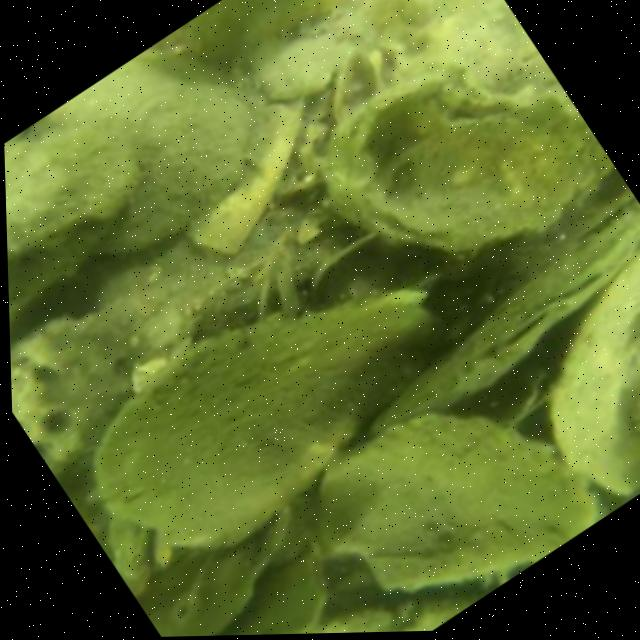Oyster-Closed: (367, 203, 640, 433)
Oyster-Indeterminate: (94, 288, 453, 551), (316, 408, 602, 595), (320, 61, 597, 252), (8, 46, 257, 257), (4, 130, 141, 266), (164, 0, 346, 63)
